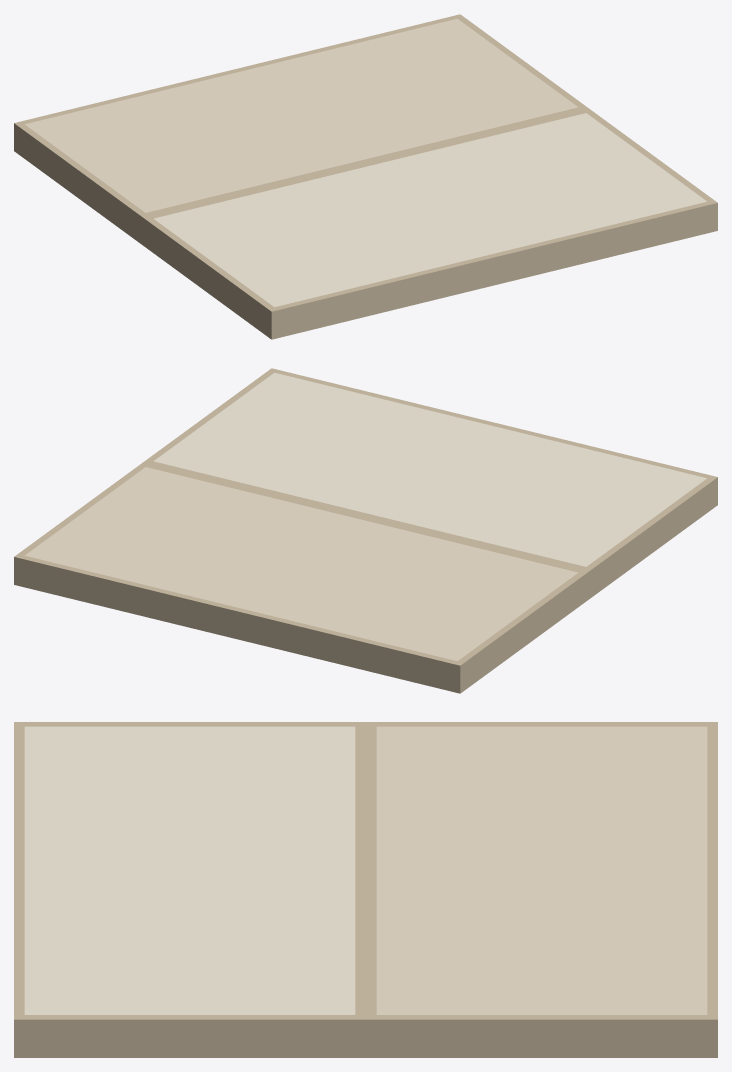
File: paving_tile_a.glb
3 views of the same model, one above another, from view 1: azimuth 30°, elevation 25°; view 2: azimuth 150°, elevation 25°; view 3: azimuth 270°, elevation 25° (orthographic). The views are drawn at different scales.
Visible parts, largest first — view 1: paving_tile_a; view 2: paving_tile_a; view 3: paving_tile_a.
Boxes of the visible parts, bbox=[...] form: paving_tile_a: bbox=[14, 14, 717, 339]; paving_tile_a: bbox=[14, 368, 717, 693]; paving_tile_a: bbox=[14, 722, 717, 1057].
Bounding box in the file's own units: 1 × 0.06 × 1.
